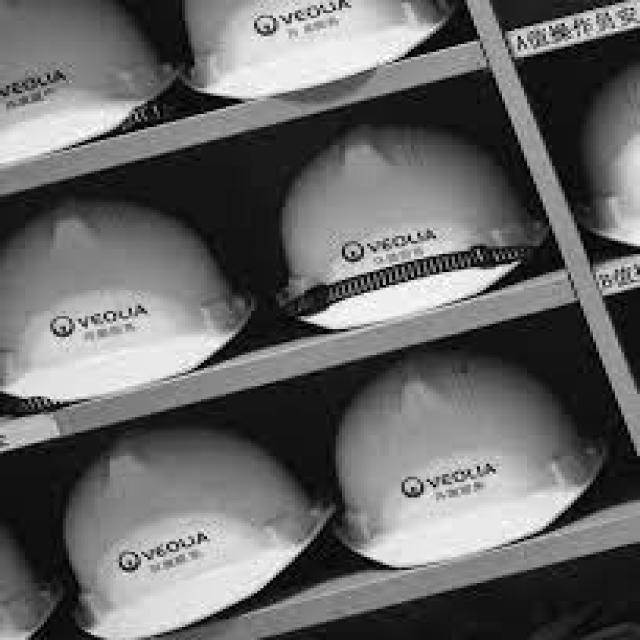construction helmet: (336, 352, 593, 570), (66, 428, 326, 640), (282, 127, 546, 332), (0, 200, 254, 402), (0, 0, 176, 163), (182, 0, 442, 101)
